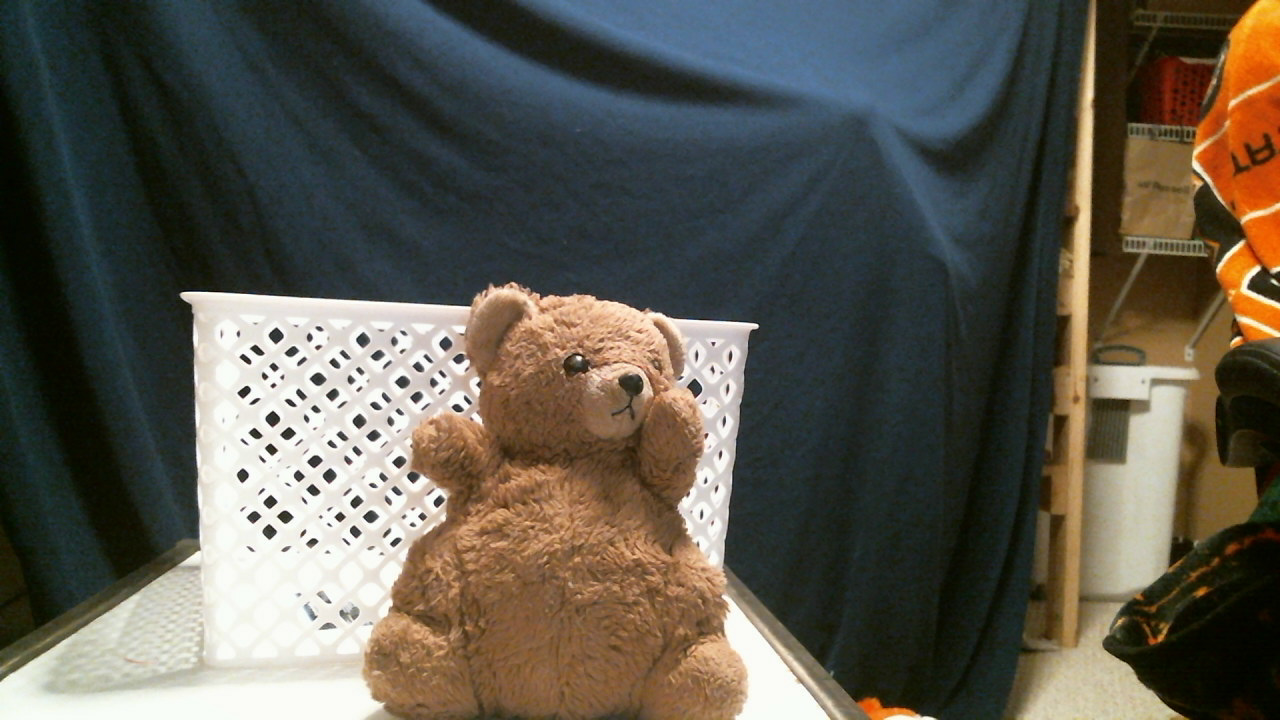Little_Mister_Bear: (553, 352, 668, 431)
